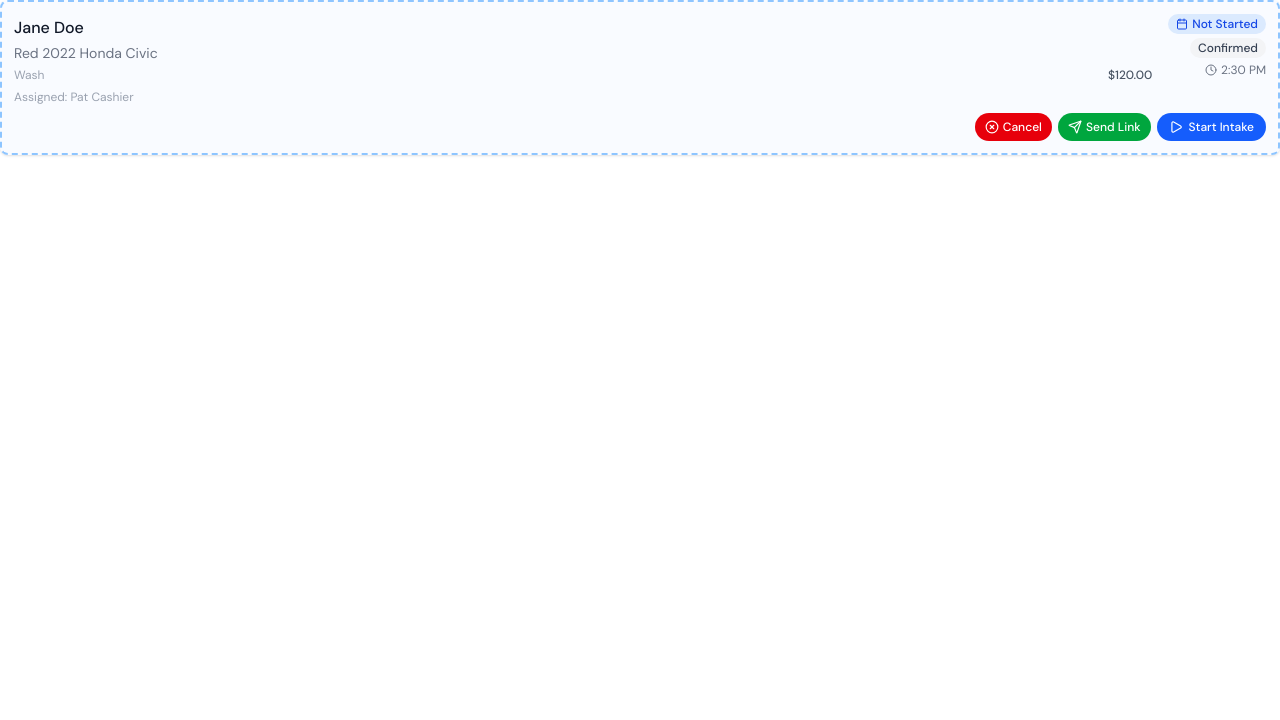
Scenario: UnstartedAppointmentCard — 422 future_date popup › opens the popup when the endpoint returns 422 future_date
Click the button with test id "start-intake-btn-apt-1": (1211, 127) [1156,113,1266,141]
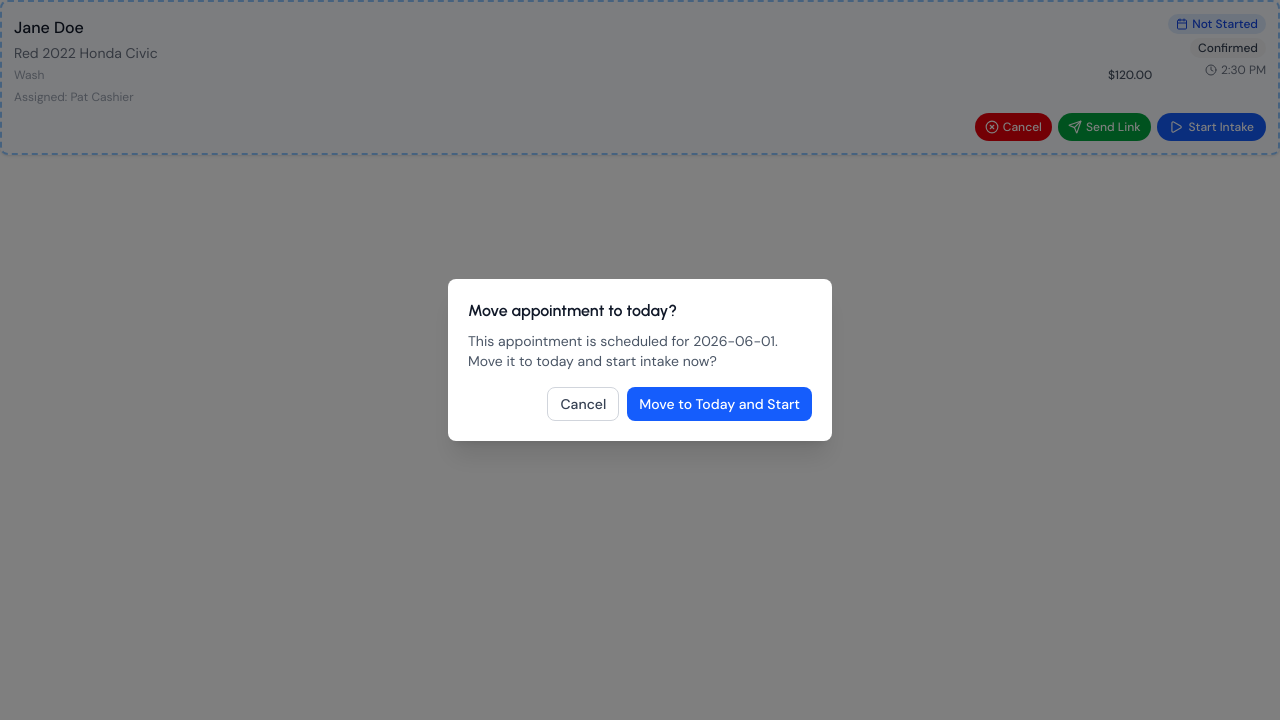
Result: the dialog with test id "future-date-prompt" is shown
Result: the text "scheduled for 2026-06-01" is shown at [468,331,812,371]
